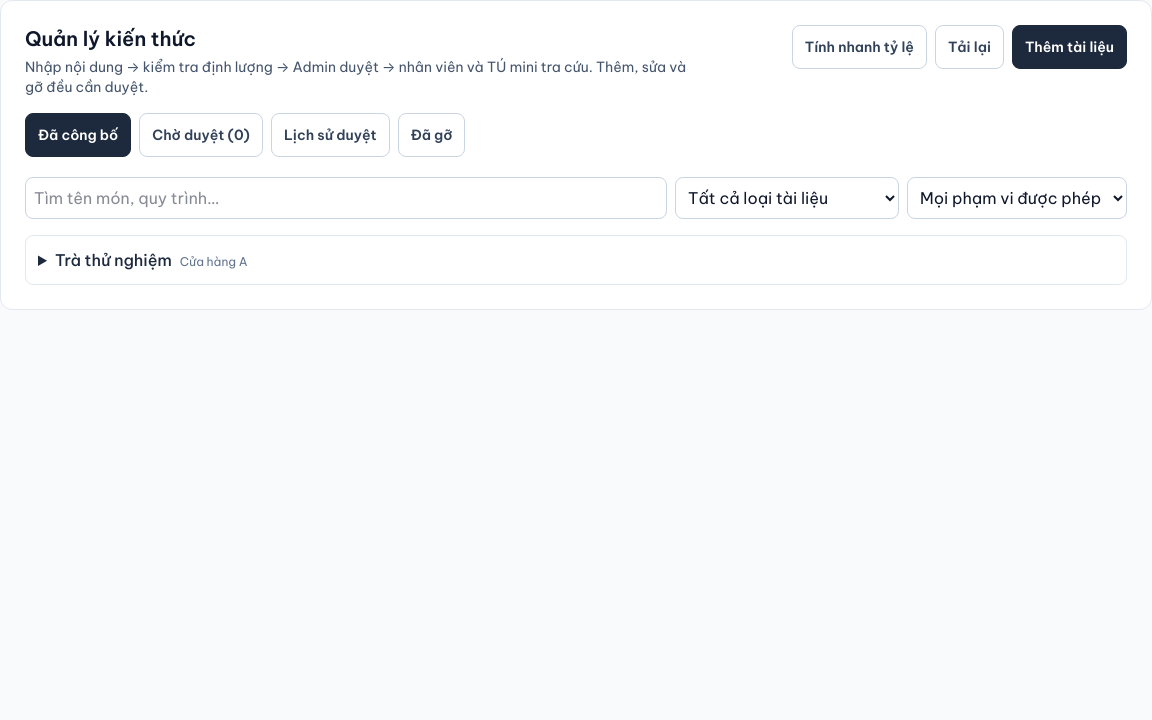
Scenario: opens the ratio calculator for admin without publishing handbook edits
Step 1. Click the button "Tính nhanh tỷ lệ" → [859, 47], box [792,25,927,69]
(page scrolled)
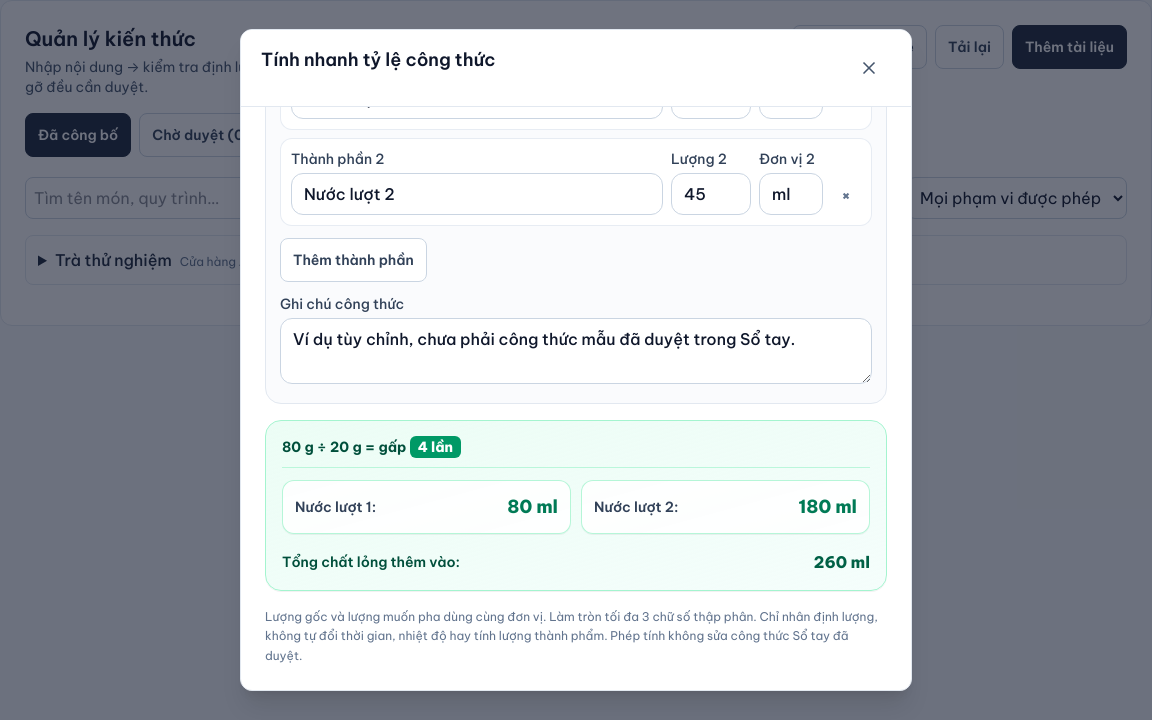
Expected: the message with test id "recipe-result" shows "80 ml", [265,420,887,591]
Expected: the message with test id "recipe-result" shows "180 ml", [265,420,887,591]
Expected: the message with test id "recipe-result" shows "260 ml", [265,420,887,591]
